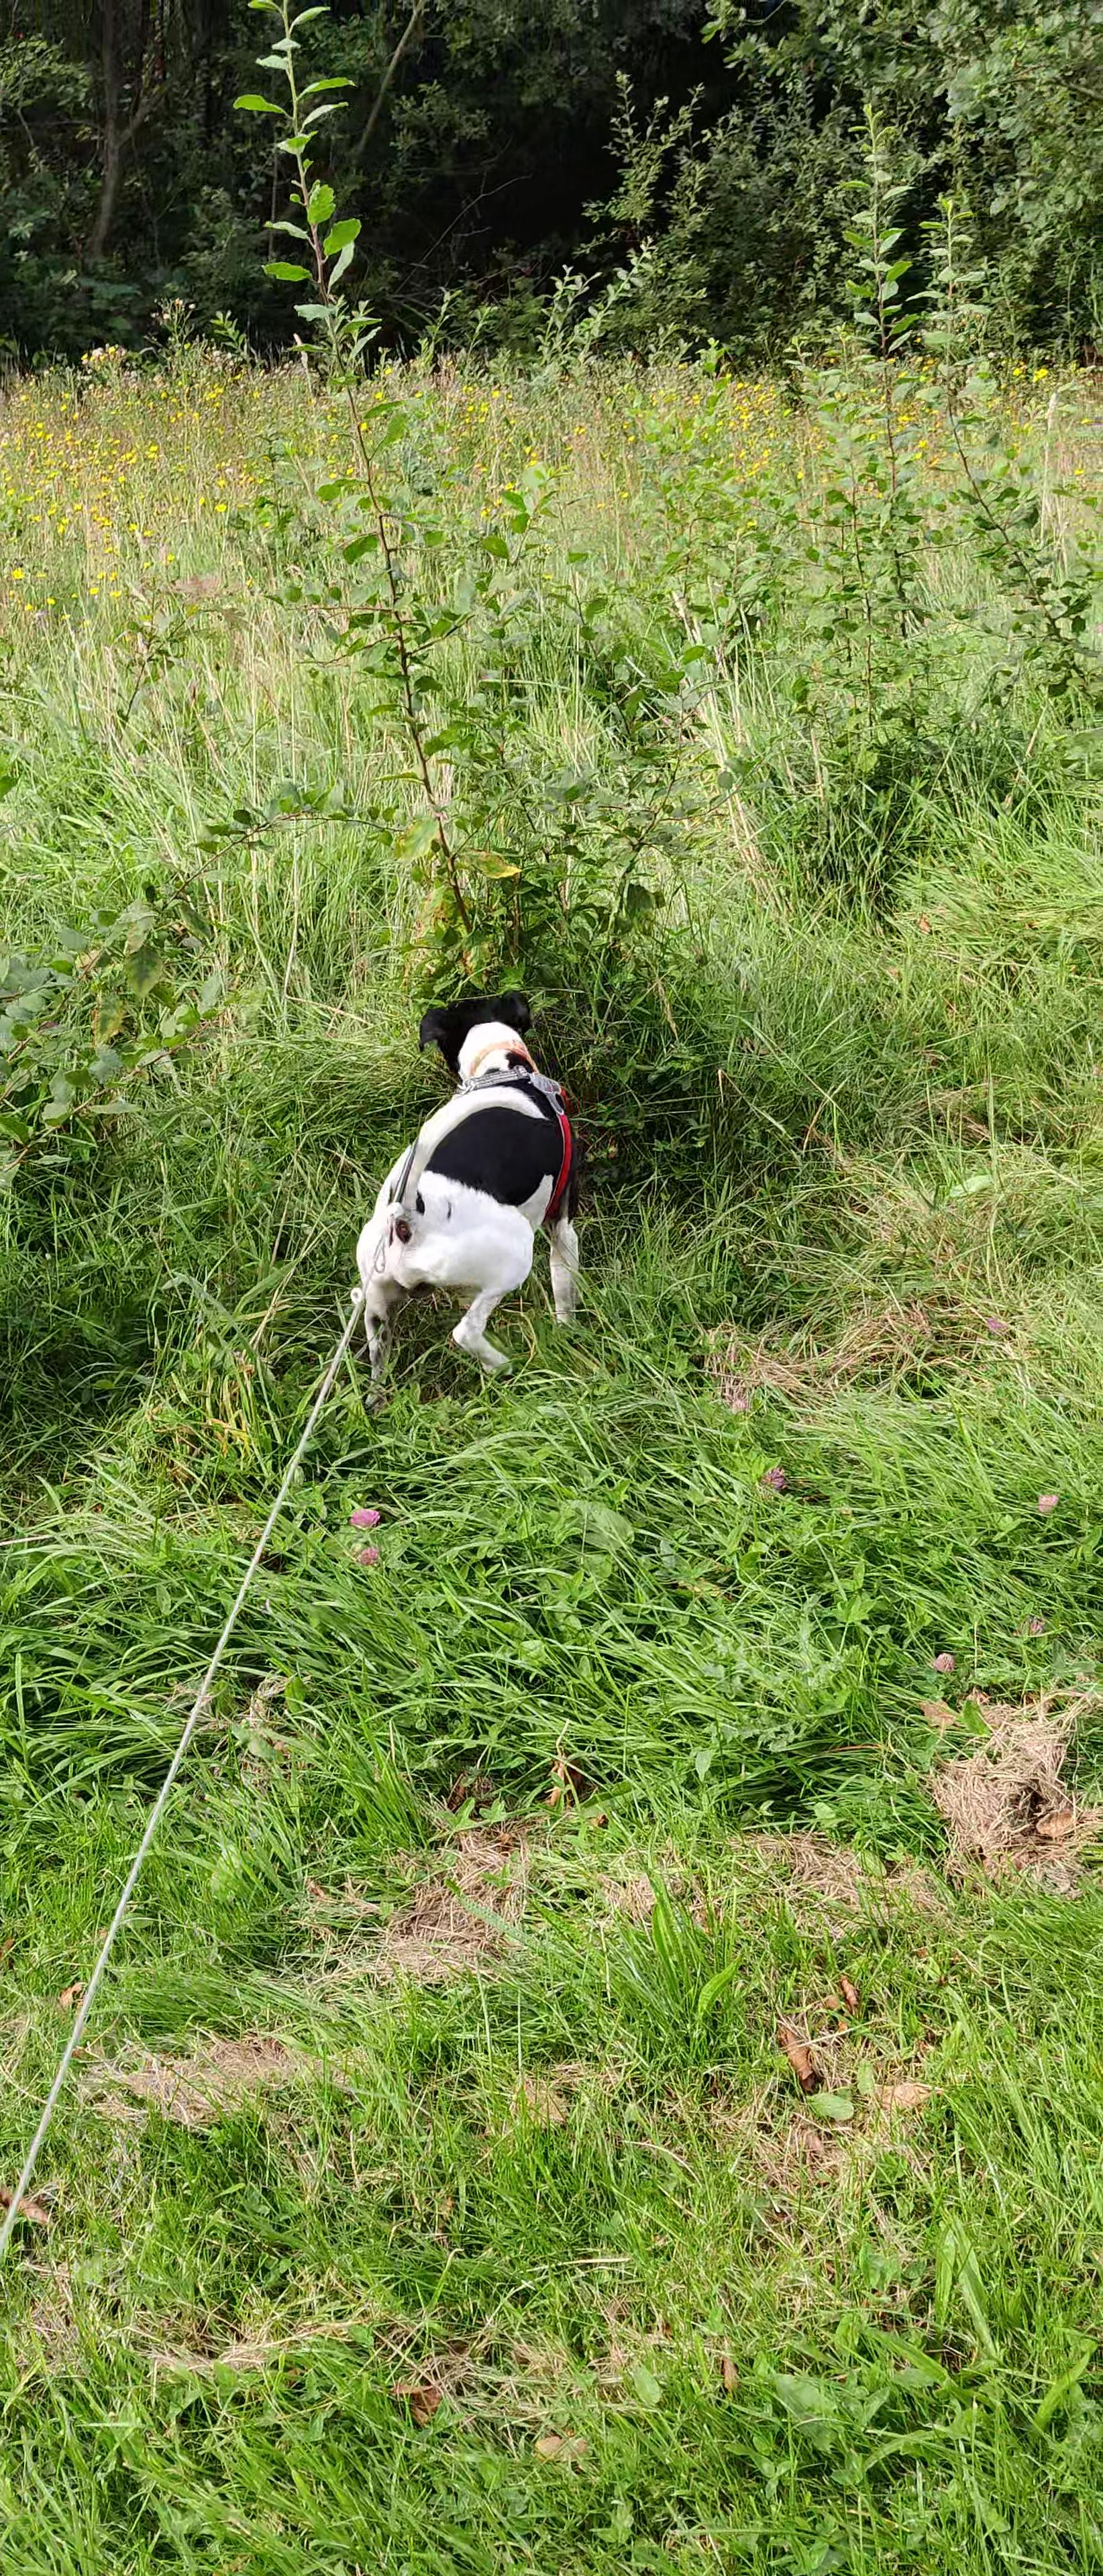Dog: (350, 979, 592, 1398)
